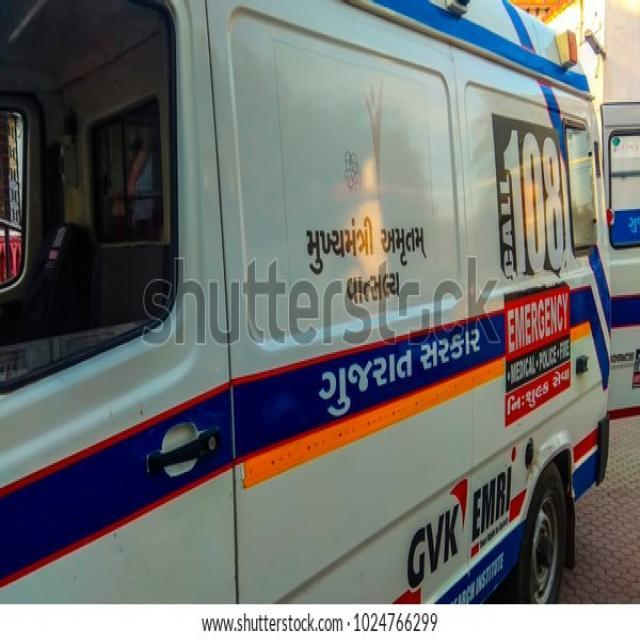ambulance: (0, 1, 612, 605)
